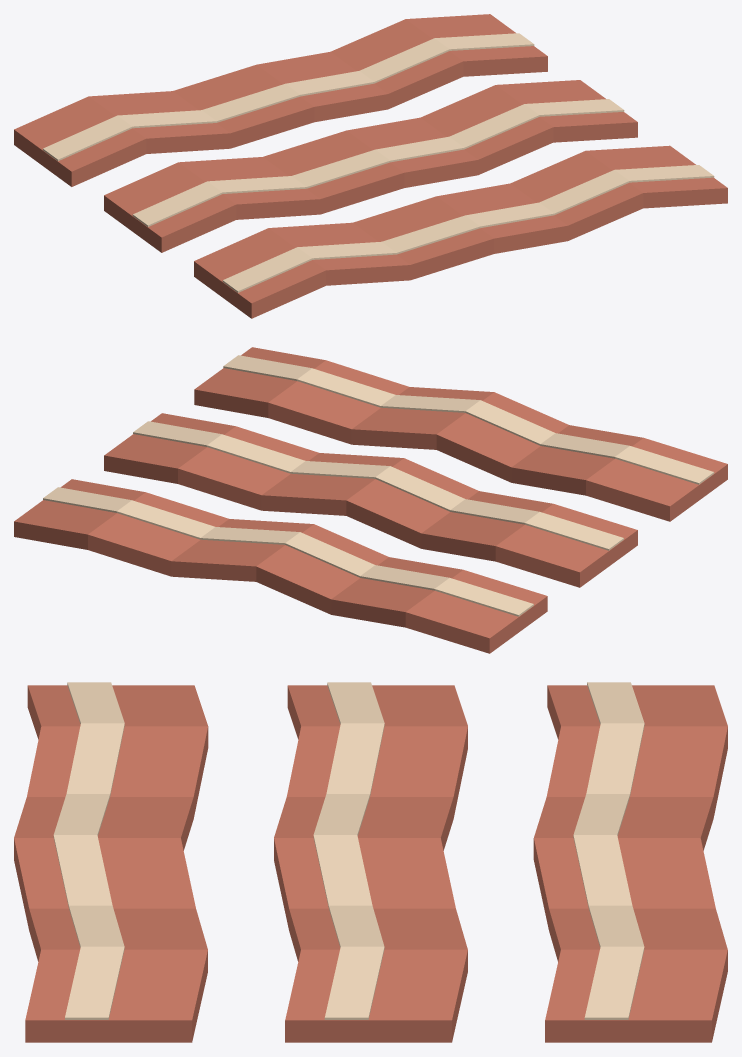
The model's file is bacon.glb.
3 renders of one model, top to bottom at view 1: azimuth 30°, elevation 25°; view 2: azimuth 150°, elevation 25°; view 3: azimuth 270°, elevation 25°, orthographic. The views are drawn at different scales.
Parts seen in each view (by area): view 1: bacon; view 2: bacon; view 3: bacon.
Boxes of the visible parts, x1,y1,x2,y2 form: bacon: (14, 14, 727, 318); bacon: (14, 347, 727, 653); bacon: (14, 682, 727, 1042).
Bounding box in the file's own units: 0.29 × 0.0162 × 0.261.
